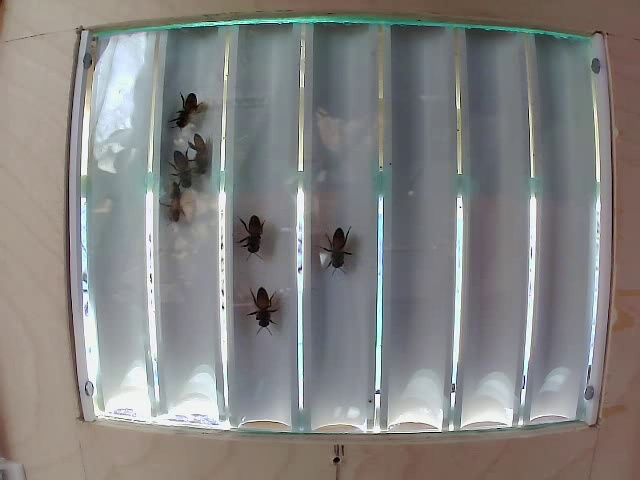bee: (229, 209, 268, 260), (149, 177, 193, 222), (320, 210, 351, 270), (244, 282, 279, 332), (191, 125, 220, 169), (170, 93, 201, 133), (166, 146, 195, 188)
